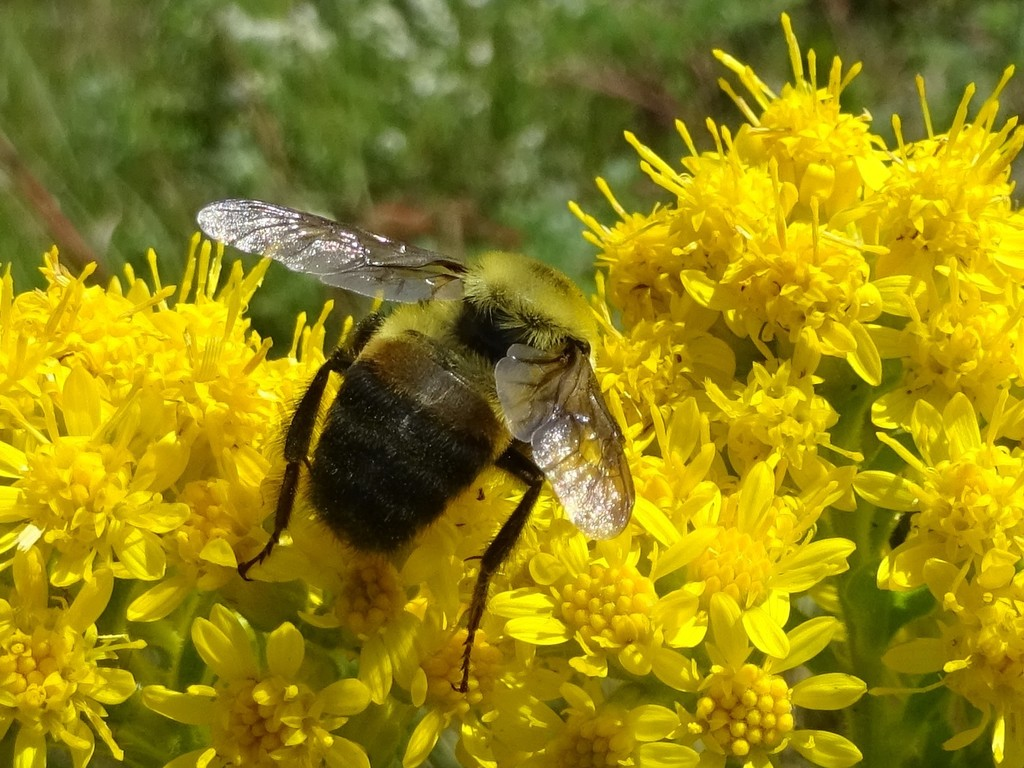bumblebee: (195, 195, 635, 698)
